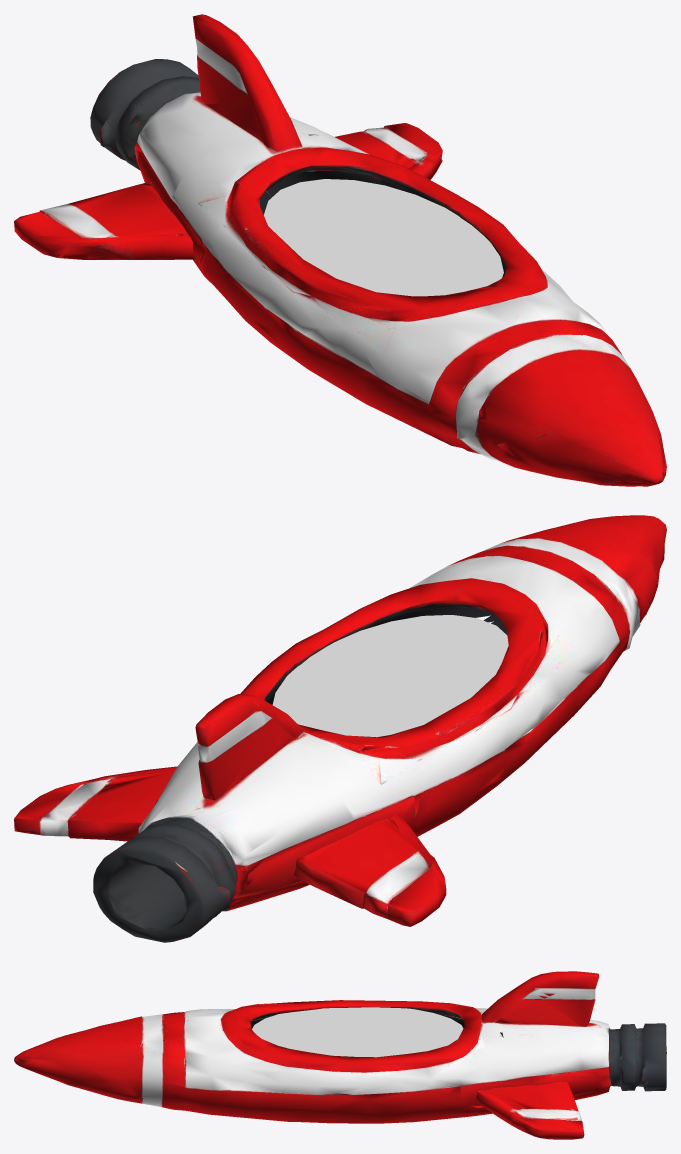
File: Kayak_Rocket.glb
The picture shows the model from 3 angles, top to bottom: view 1: azimuth 30°, elevation 25°; view 2: azimuth 150°, elevation 25°; view 3: azimuth 270°, elevation 25°; orthographic projection. The views are drawn at different scales.
Visible parts, largest first — view 1: Kayak_Rocket, Kayak_Rocket_Cockpit; view 2: Kayak_Rocket, Kayak_Rocket_Cockpit; view 3: Kayak_Rocket, Kayak_Rocket_Cockpit.
Part boxes in pixels (left/top/right/bottom): Kayak_Rocket: left=14, top=14, right=666, bottom=486; Kayak_Rocket_Cockpit: left=264, top=179, right=503, bottom=296; Kayak_Rocket: left=14, top=515, right=666, bottom=942; Kayak_Rocket_Cockpit: left=272, top=615, right=508, bottom=737; Kayak_Rocket: left=14, top=971, right=666, bottom=1139; Kayak_Rocket_Cockpit: left=252, top=1007, right=463, bottom=1057.
Size of the model in its own units: 4.3 by 2.17 by 9.49.
Materials: 2 (1 with a texture image).
